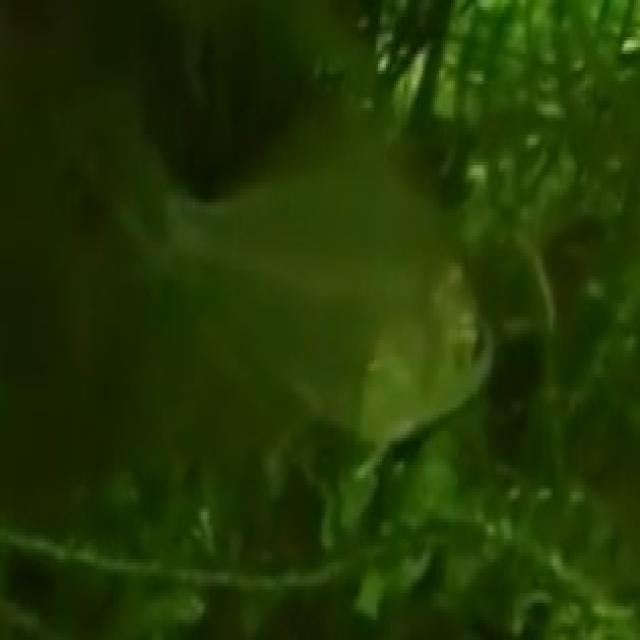Glass-Perchlet: (67, 0, 514, 517)
